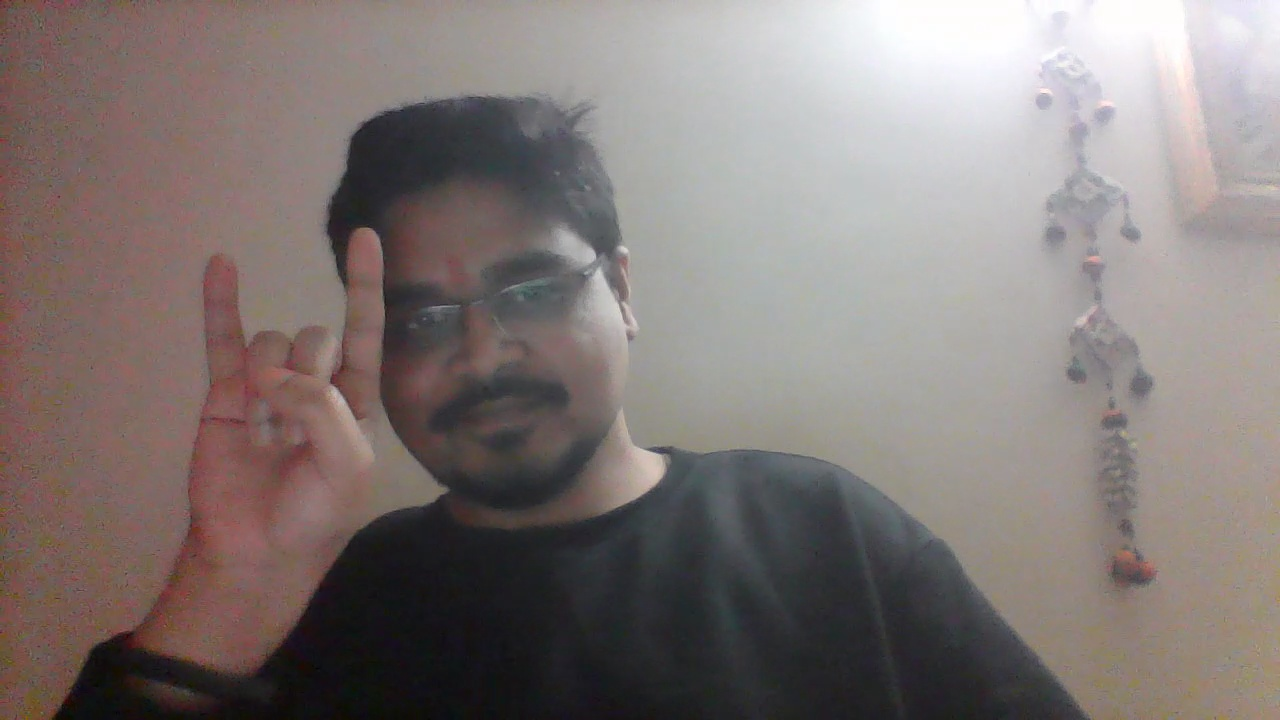ILoveYou: (168, 223, 400, 600)
